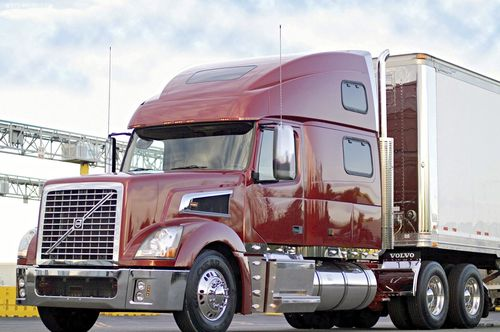卡车: (15, 33, 500, 331)
